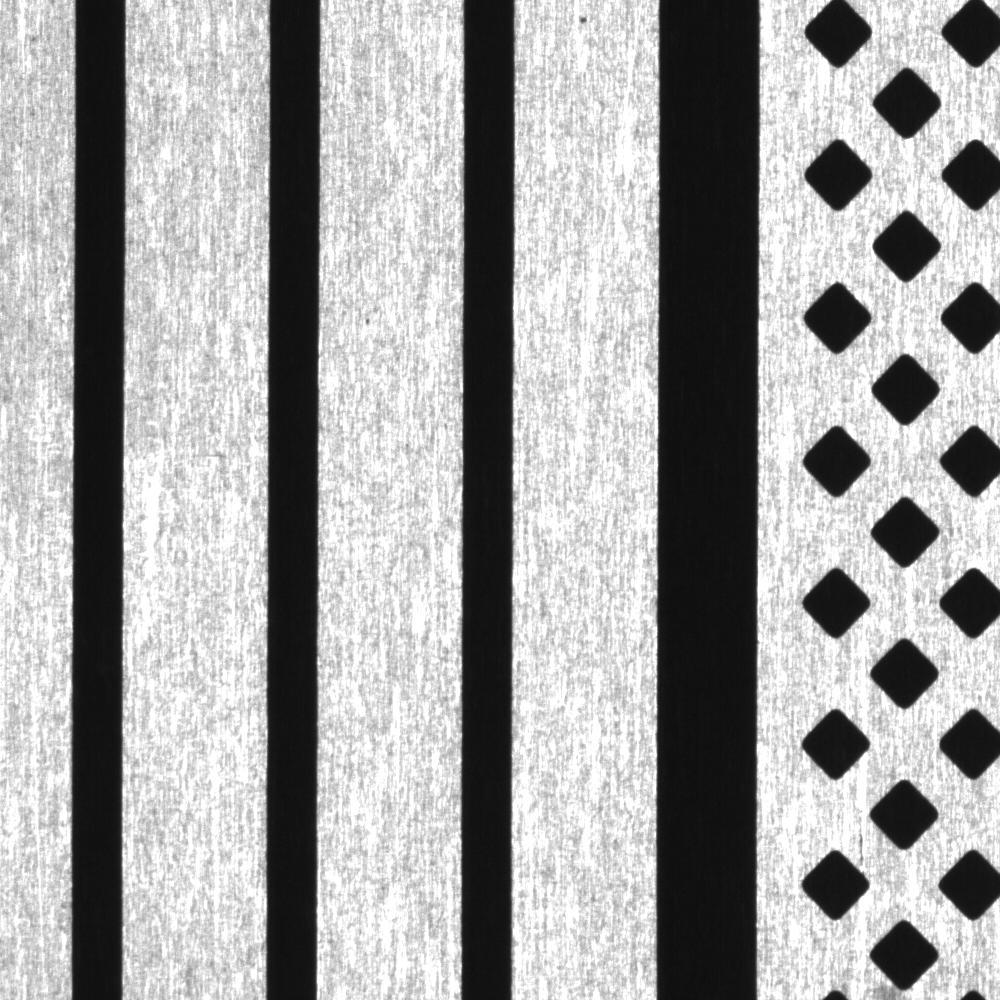Pinhole: (566, 6, 603, 39)
